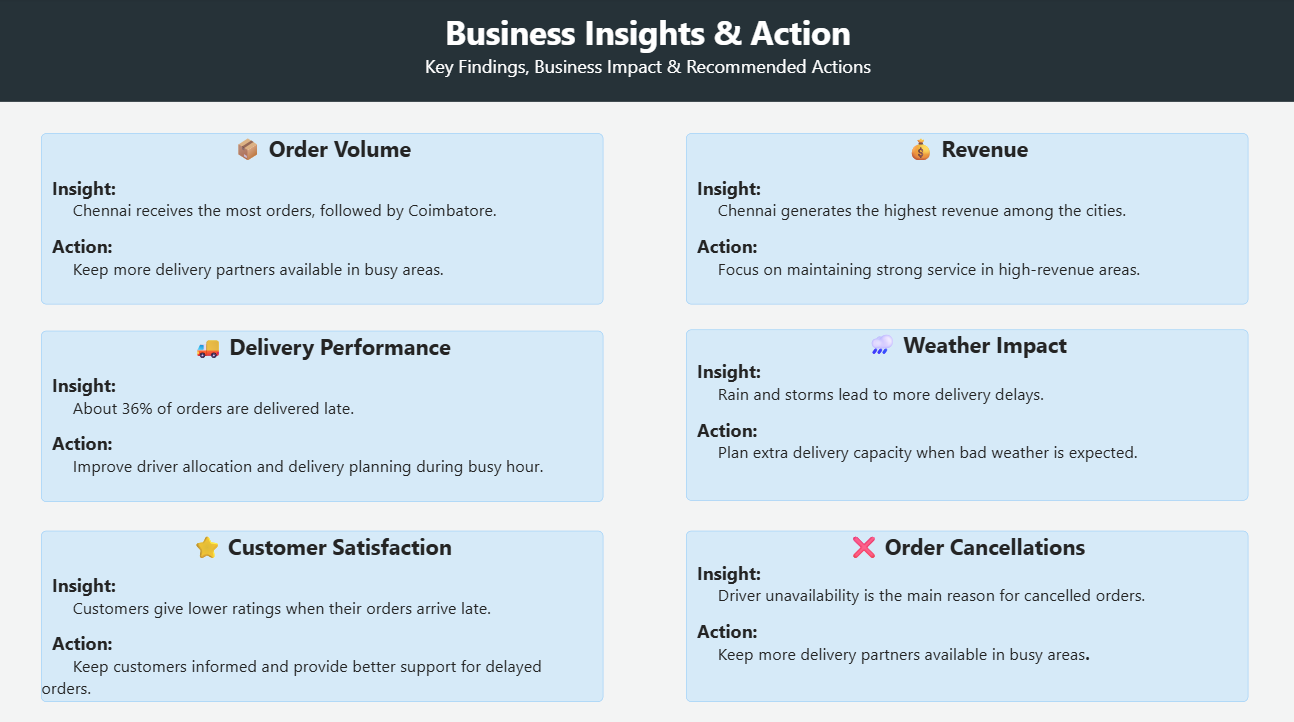

Layout of this report page (visuals, bound fields, positions):
{"tool":"powerbi","page":{"name":"Business Insights & Action","canvas":[1920,1080],"ordinal":5},"visuals":[{"type":"textbox","box":[0,0,1920,112],"z":0},{"type":"textbox","box":[0,112,1920,5],"z":1000},{"type":"textbox","box":[24,140,924,289.3],"z":2000},{"type":"textbox","box":[972,140,924,289.3],"z":3000},{"type":"textbox","box":[24,453.3,924,289.3],"z":4000},{"type":"textbox","box":[972,453.3,924,289.3],"z":5000},{"type":"textbox","box":[24,766.7,924,289.3],"z":6000},{"type":"textbox","box":[972,766.7,924,289.3],"z":7000},{"type":"textbox","box":[24,158,7,253.3],"z":8000},{"type":"textbox","box":[972,158,7,253.3],"z":9000},{"type":"textbox","box":[24,471.3,7,253.3],"z":10000},{"type":"textbox","box":[972,471.3,7,253.3],"z":11000},{"type":"textbox","box":[24,784.7,7,253.3],"z":12000},{"type":"textbox","box":[972,784.7,7,253.3],"z":13000},{"type":"textbox","box":[58,252.7,64,64],"z":14000},{"type":"textbox","box":[1006,252.7,64,64],"z":15000},{"type":"textbox","box":[58,566,64,64],"z":16000},{"type":"textbox","box":[1006,566,64,64],"z":17000},{"type":"textbox","box":[58,879.3,64,64],"z":18000},{"type":"textbox","box":[1006,879.3,64,64],"z":19000},{"type":"textbox","box":[144,154,774,261.3],"z":20000},{"type":"textbox","box":[1092,154,774,261.3],"z":21000},{"type":"textbox","box":[144,467.3,774,261.3],"z":22000},{"type":"textbox","box":[1092,467.3,774,261.3],"z":23000},{"type":"textbox","box":[144,780.7,774,261.3],"z":24000},{"type":"textbox","box":[1092,780.7,774,261.3],"z":25000},{"type":"textbox","box":[767.5,20.2,68,68],"z":26000},{"type":"textbox","box":[590.8,71.8,1000,34],"z":27000},{"type":"textbox","box":[570.6,20.2,1000,52],"z":28000}]}

Visuals, with their boxes in screenshot pixels (x1, y1, x2, y2), scaled from the page's 1920x1080 canvas onto the 1294x722 screenshot:
textbox: 0,0,1293,75
textbox: 0,75,1293,78
textbox: 16,94,639,287
textbox: 655,94,1278,287
textbox: 16,303,639,496
textbox: 655,303,1278,496
textbox: 16,513,639,706
textbox: 655,513,1278,706
textbox: 16,106,21,275
textbox: 655,106,660,275
textbox: 16,315,21,484
textbox: 655,315,660,484
textbox: 16,525,21,694
textbox: 655,525,660,694
textbox: 39,169,82,212
textbox: 678,169,721,212
textbox: 39,378,82,421
textbox: 678,378,721,421
textbox: 39,588,82,631
textbox: 678,588,721,631
textbox: 97,103,619,278
textbox: 736,103,1258,278
textbox: 97,312,619,487
textbox: 736,312,1258,487
textbox: 97,522,619,697
textbox: 736,522,1258,697
textbox: 517,14,563,59
textbox: 398,48,1072,71
textbox: 385,14,1059,48
